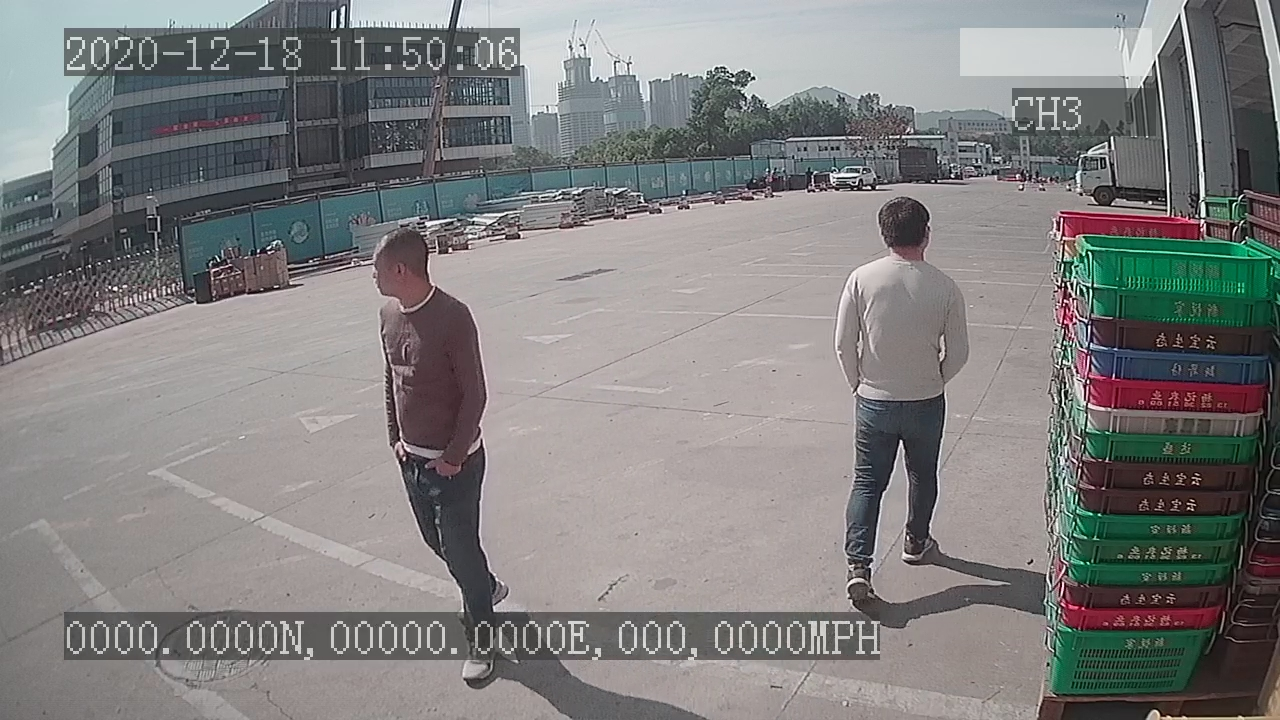person: (826, 195, 972, 608)
